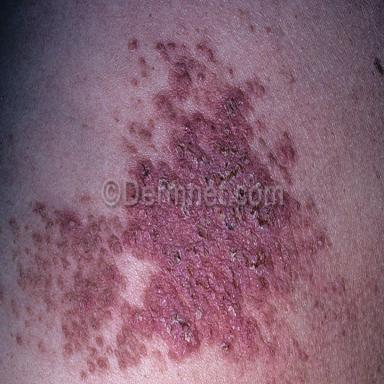Darier_s-Disease: (7, 196, 351, 384), (121, 38, 298, 184)
